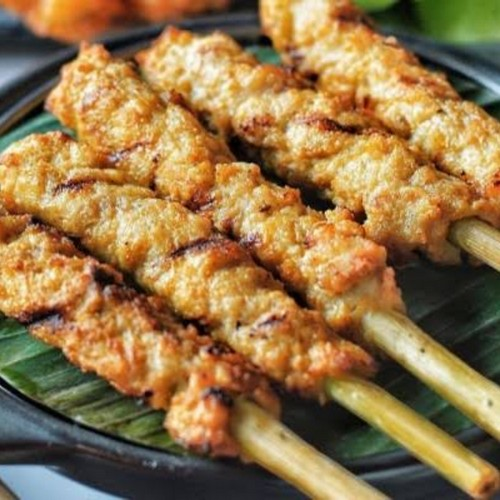sate lilit: (32, 49, 500, 496)
